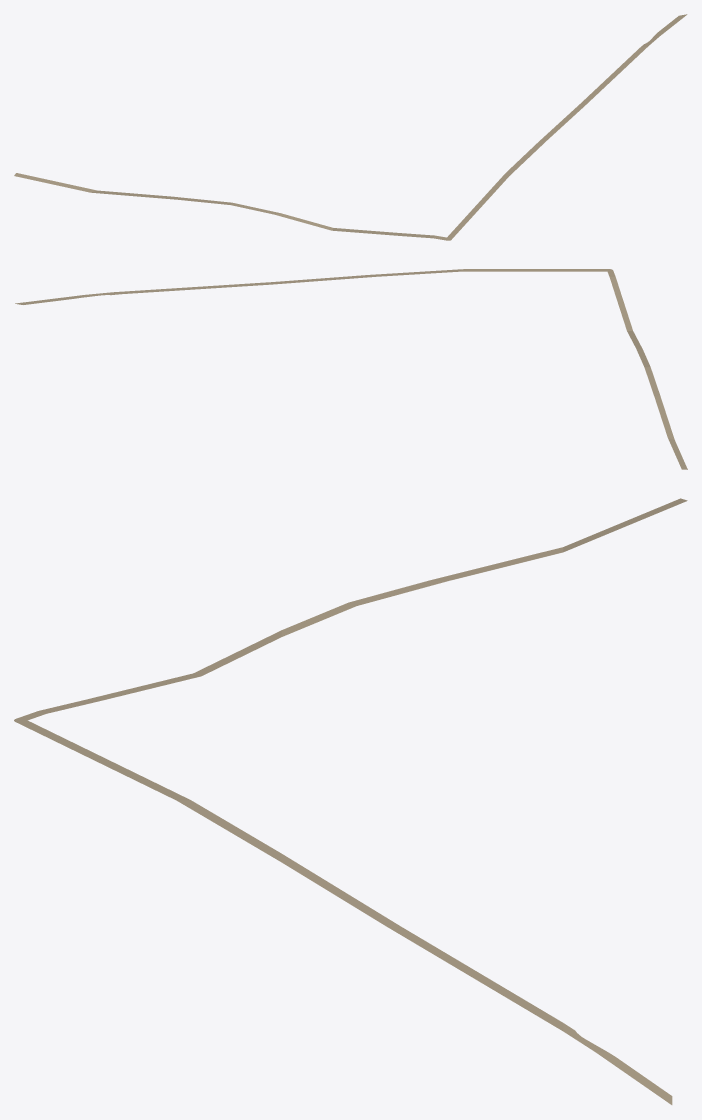
File: farm_18_8_track.glb
3 renders of one model, top to bottom at view 1: azimuth 30°, elevation 25°; view 2: azimuth 150°, elevation 25°; view 3: azimuth 270°, elevation 25°, orthographic. The views are drawn at different scales.
Visible parts, largest first — view 1: geometry_0; view 2: geometry_0; view 3: geometry_0.
Boxes of the visible parts, x1,y1,x2,y2 form: geometry_0: [14, 14, 687, 240]; geometry_0: [15, 269, 687, 469]; geometry_0: [14, 498, 687, 1104].
Bounding box in the file's own units: 408 × 9.67 × 191.
